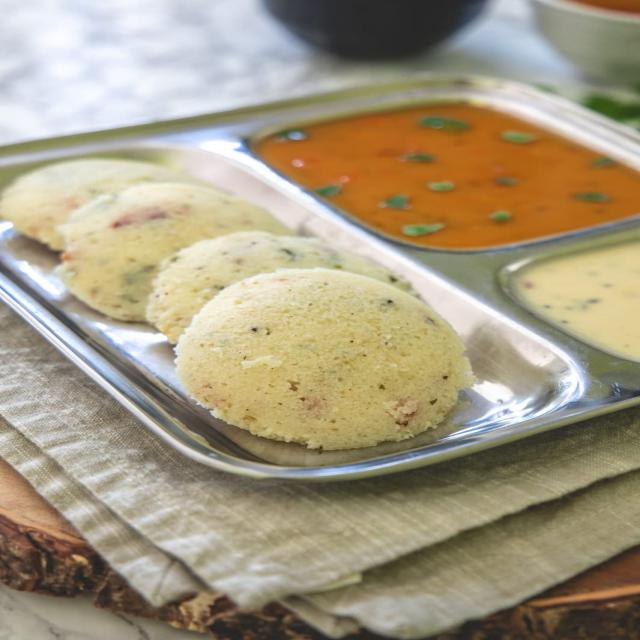rave idli: (166, 262, 492, 457), (136, 234, 454, 335), (54, 178, 260, 320), (6, 152, 164, 248)
